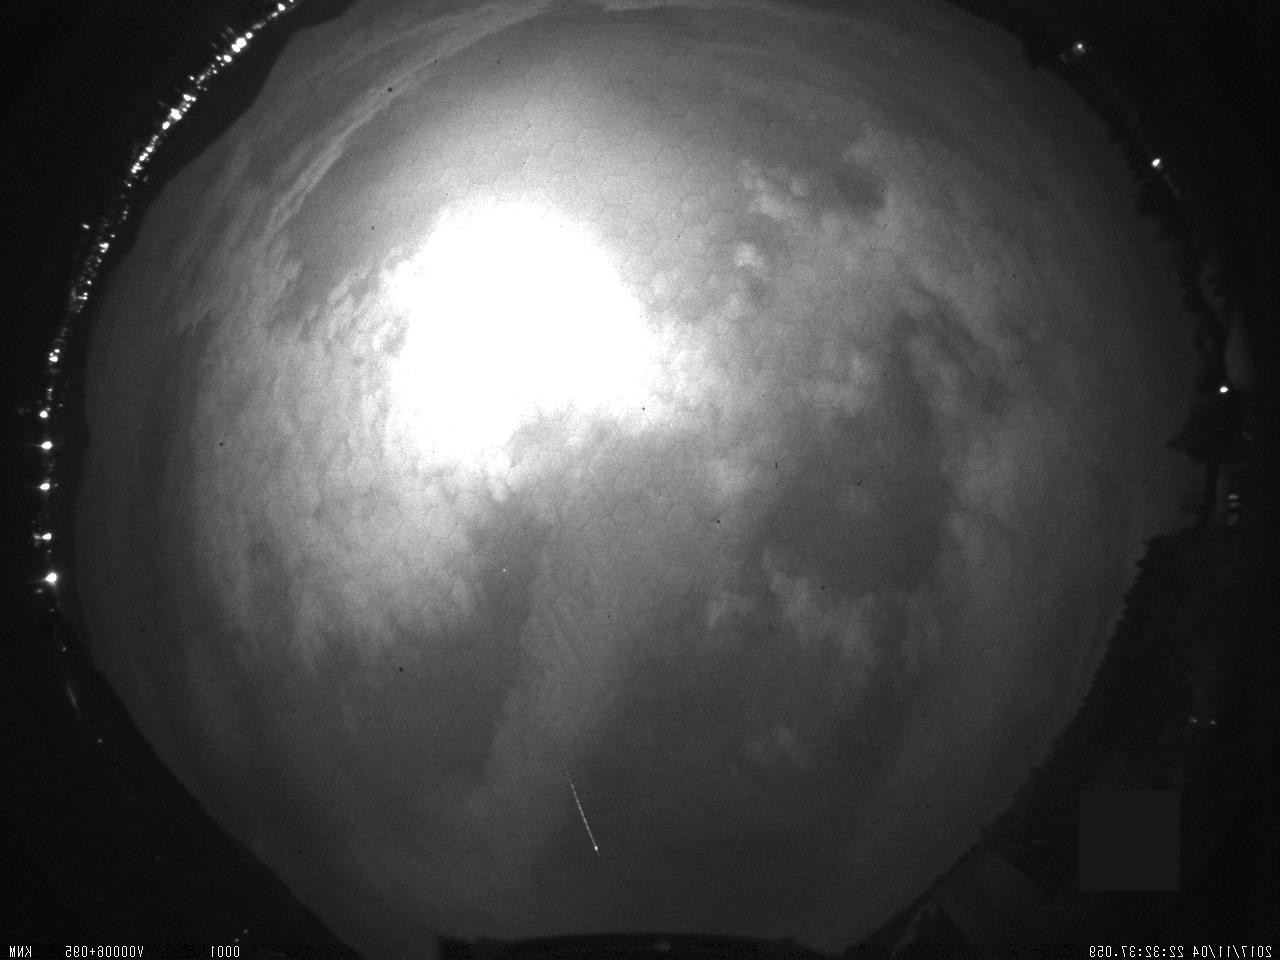meteor: (555, 749, 613, 864)
